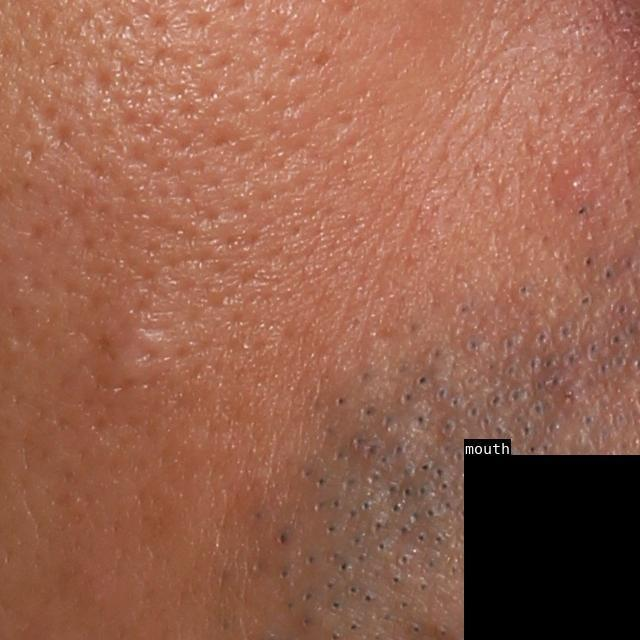hypertrophic_scar: (99, 323, 185, 389)
